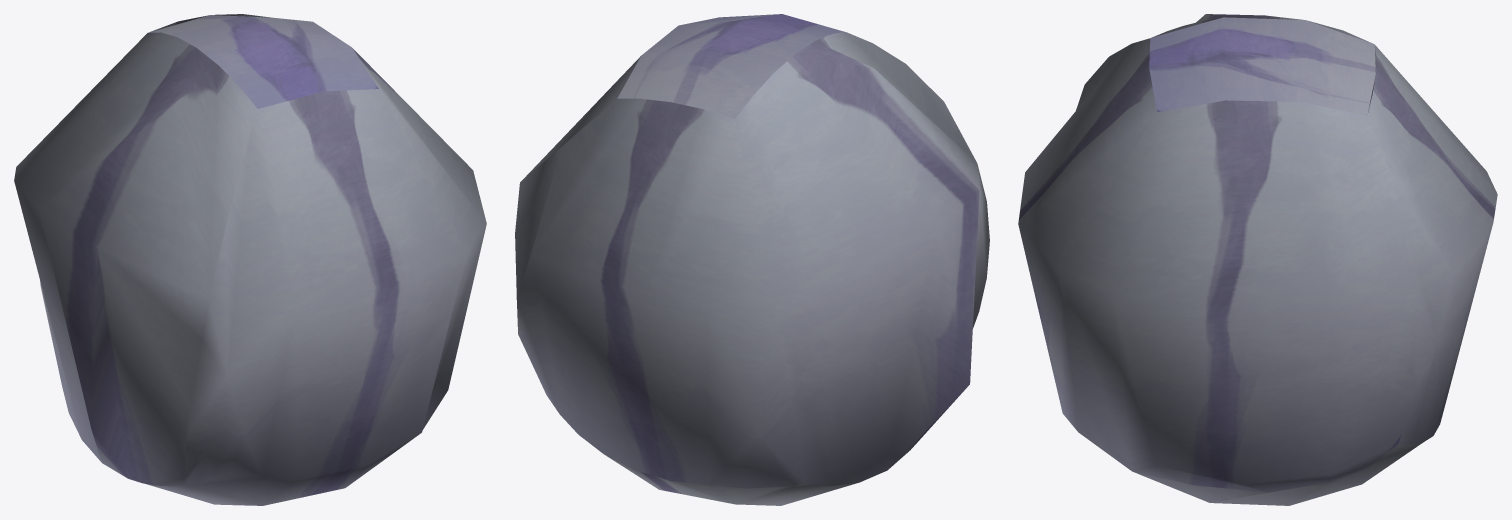
Rendered from rockeroo_small_bald_round_evil.glb.
The picture shows the model from 3 angles, left to right: view 1: azimuth 30°, elevation 25°; view 2: azimuth 150°, elevation 25°; view 3: azimuth 270°, elevation 25°; orthographic projection.
Visible parts, largest first — view 1: rockeroo_small_bald_round.001; view 2: rockeroo_small_bald_round.001; view 3: rockeroo_small_bald_round.001.
Boxes of the visible parts, left/top/right/bottom form: rockeroo_small_bald_round.001: left=14, top=14, right=486, bottom=505; rockeroo_small_bald_round.001: left=515, top=14, right=989, bottom=505; rockeroo_small_bald_round.001: left=1018, top=14, right=1497, bottom=505.
Bounding box in the file's own units: 10.76 × 11.32 × 11.11.
1 material, 1 textured.
